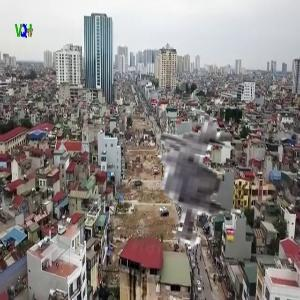drone: (119, 105, 285, 271)
